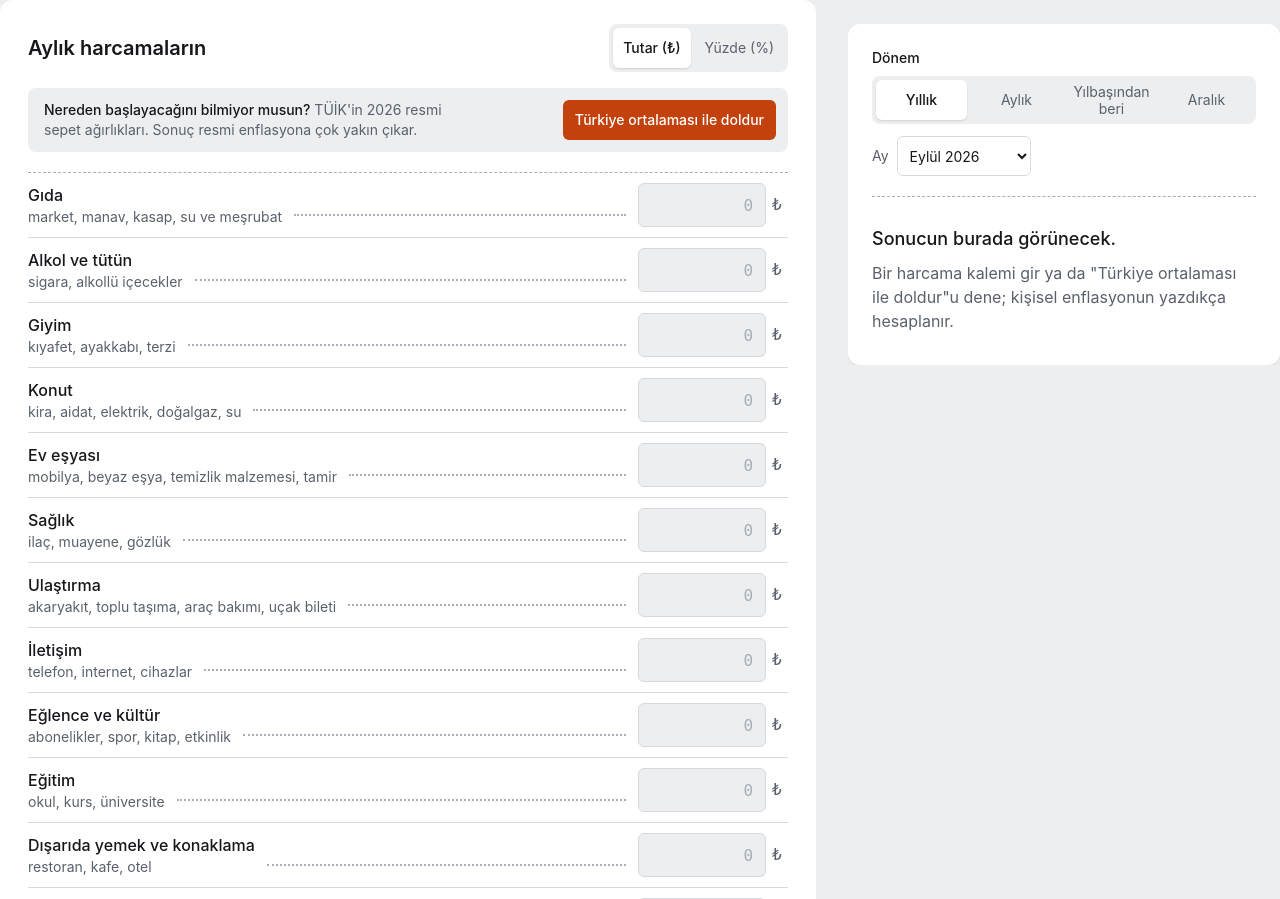
Calculator › dönem ve ay seçimi sonucu değiştirir; aralıkta başlangıç seçilebilir
The width and height of the screenshot is (1280, 899).
In the field labelled "Gıda": (702, 205) [638,183,766,227], type "100"
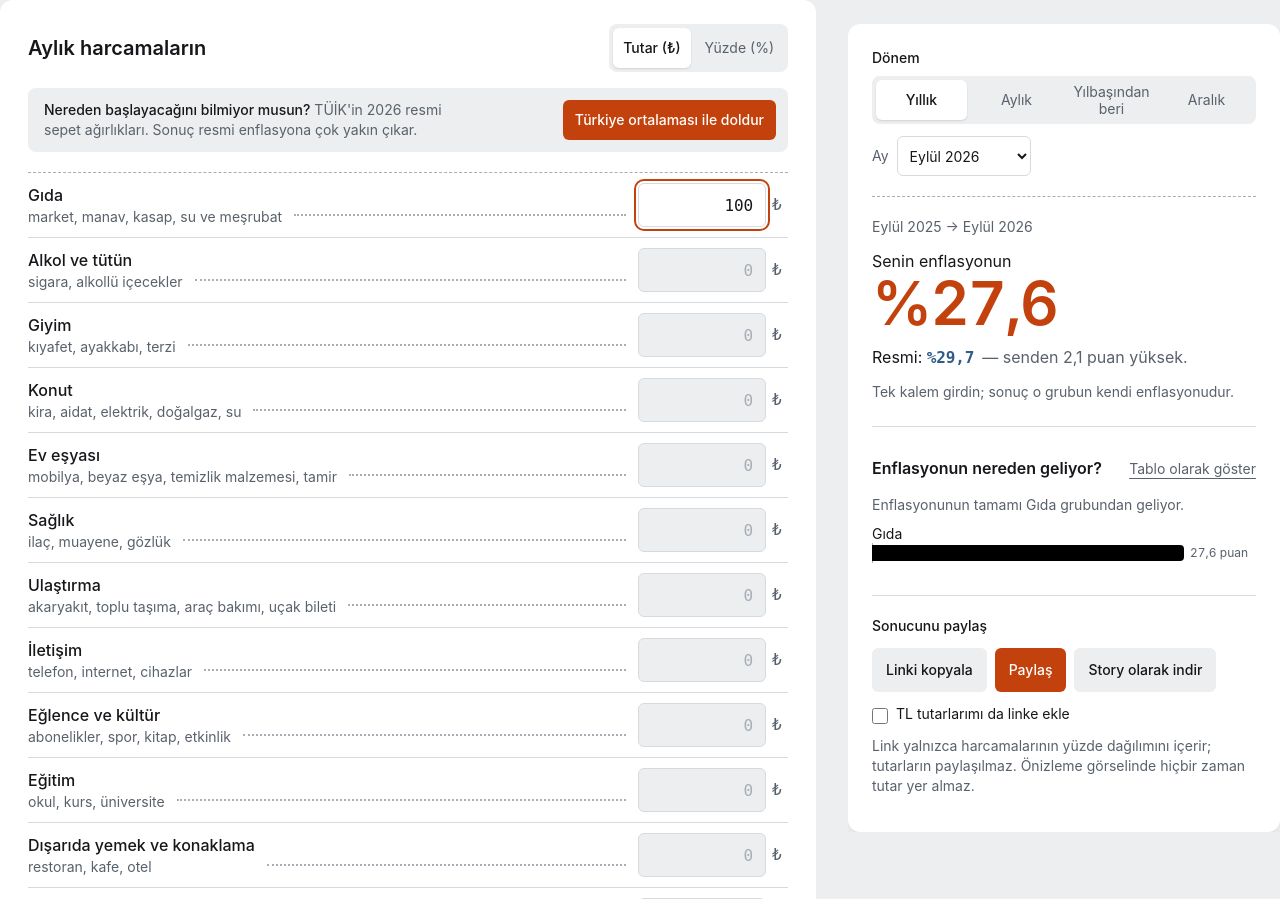
Click the radio button labelled "Yılbaşından beri": (1112, 100) [1073,82,1150,117]
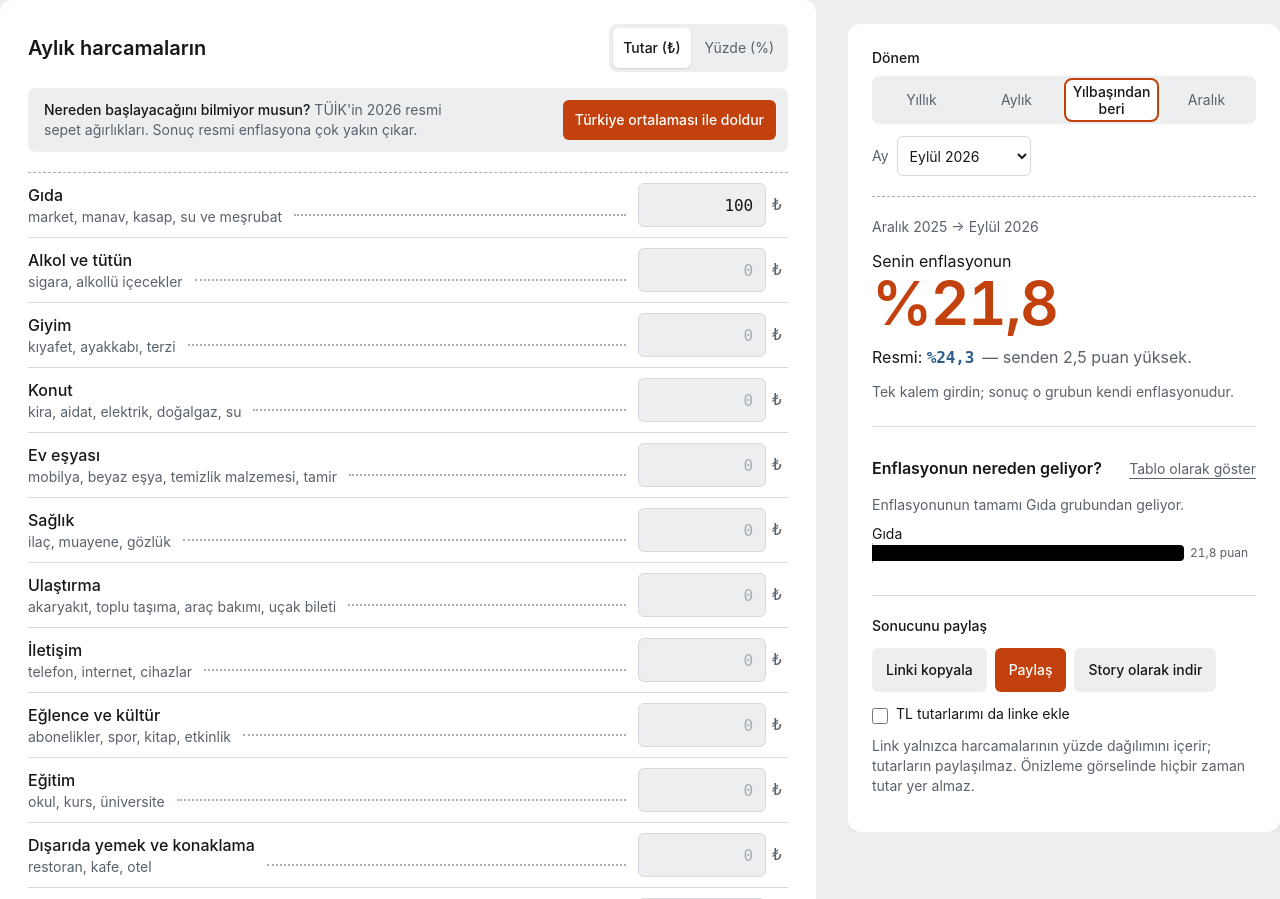
Expected: the text "Aralık 2025 → Eylül 2026" is shown, [872,218,1039,235]
Select "Haziran 2026" in the dropdown labelled "Ay": (964, 156) [897,136,1031,176]
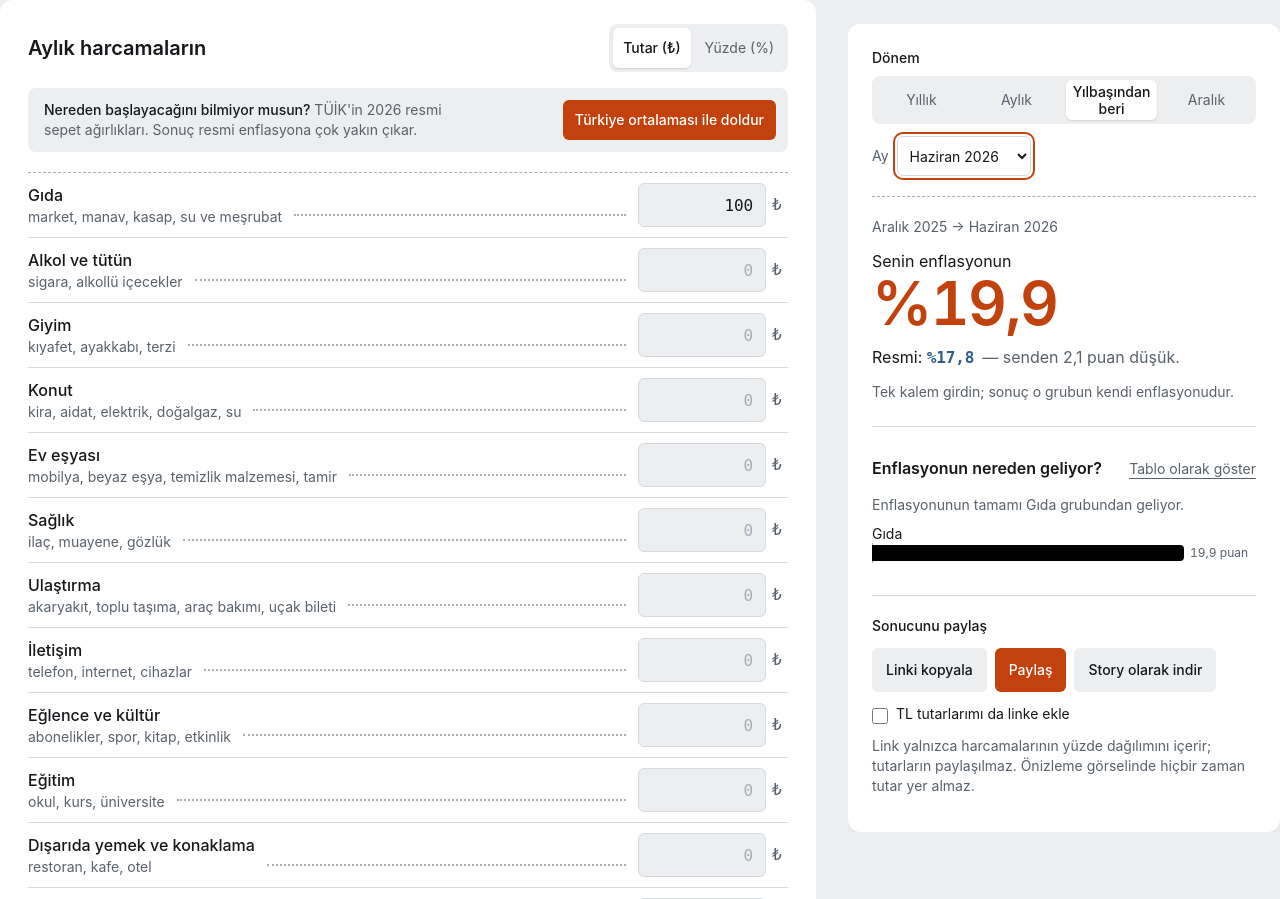
Expected: the text "Aralık 2025 → Haziran 2026" is shown, [872,218,1058,235]
Click the radio button labelled "Aralık": (1207, 100) [1188,91,1225,108]
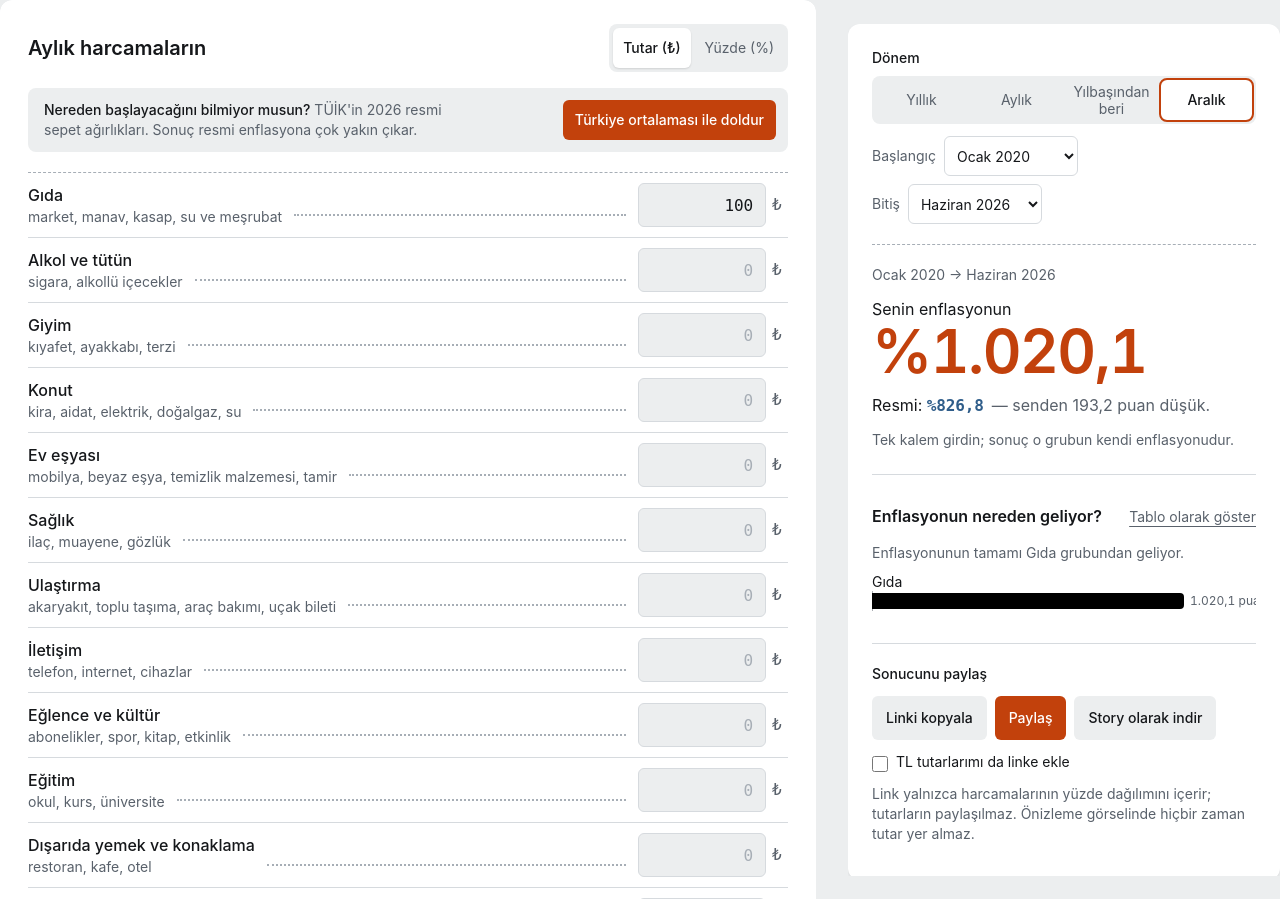
Select "Ocak 2023" in the dropdown labelled "Başlangıç": (1011, 156) [944,136,1078,176]
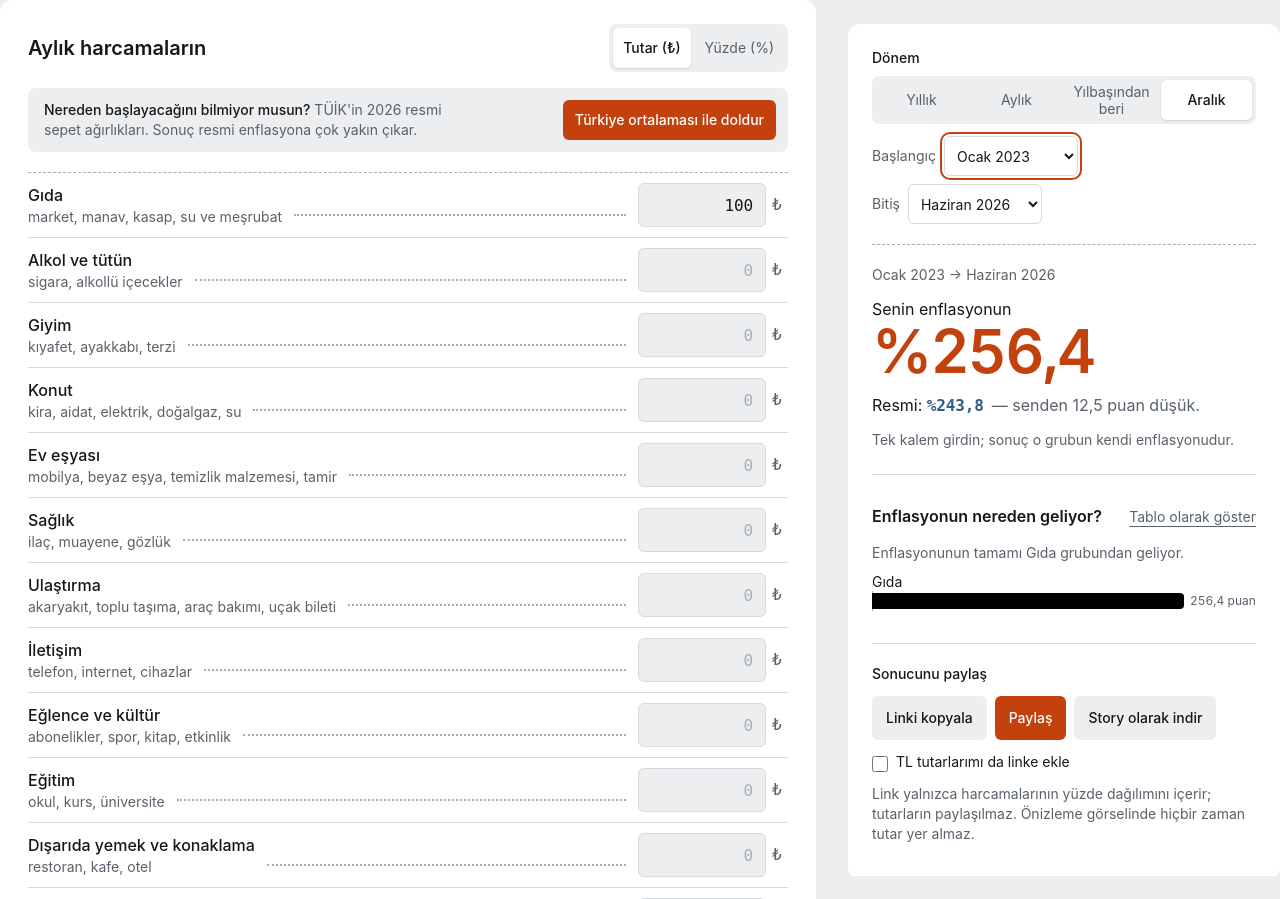
Expected: the text "Ocak 2023 → Haziran 2026" is shown, [872,266,1056,283]
